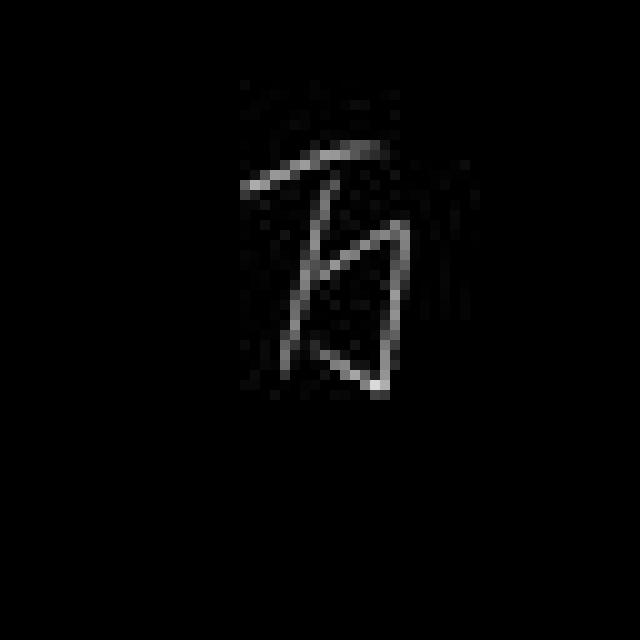10000 -a ten thousand-: (223, 124, 420, 416)
